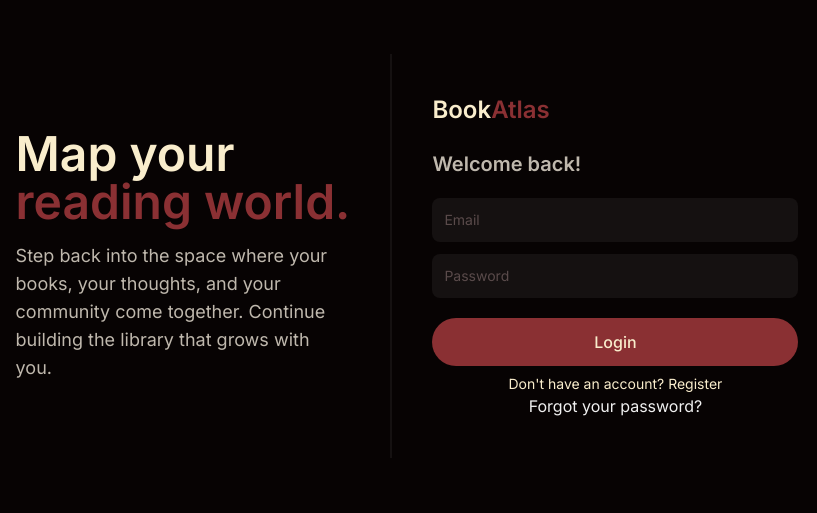
Test: LoginPage › shows errors when email and password are empty
The width and height of the screenshot is (817, 513).
Click the button "Login" at [615, 342], box [432,318,798,366]
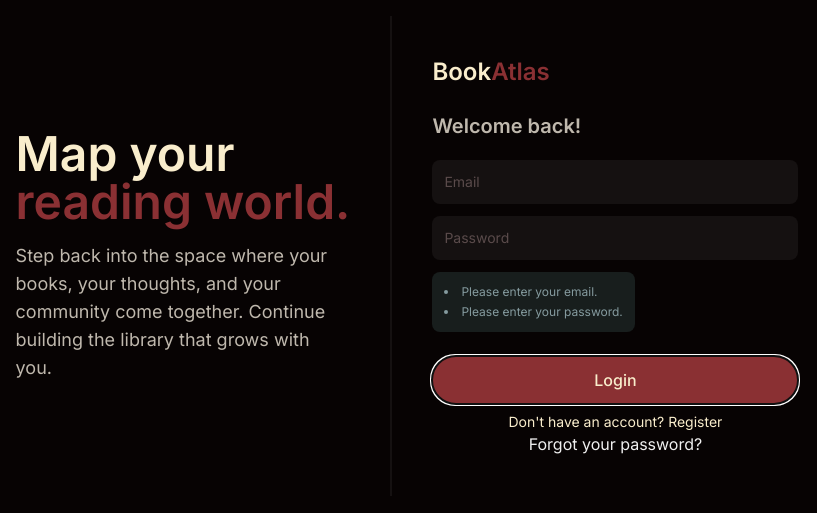
Expected: the list item "Please enter your email." is shown, [461,284,598,299]
Expected: the list item "Please enter your password." is shown, [444,304,623,320]
